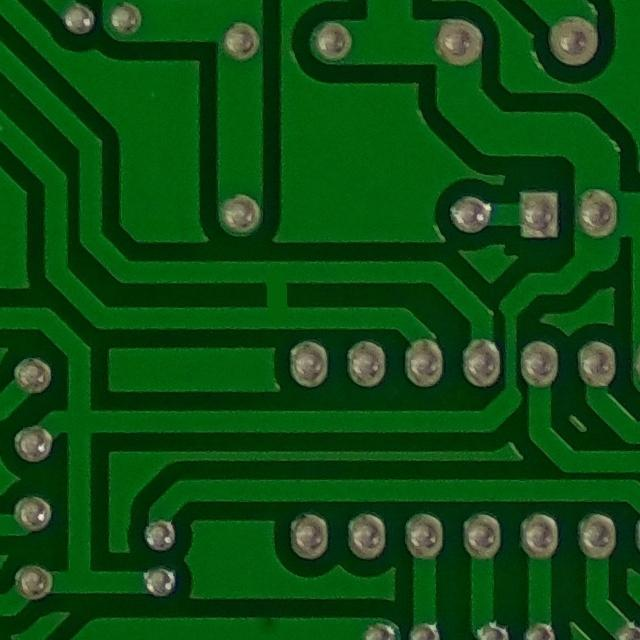short: (236, 252, 318, 333)
